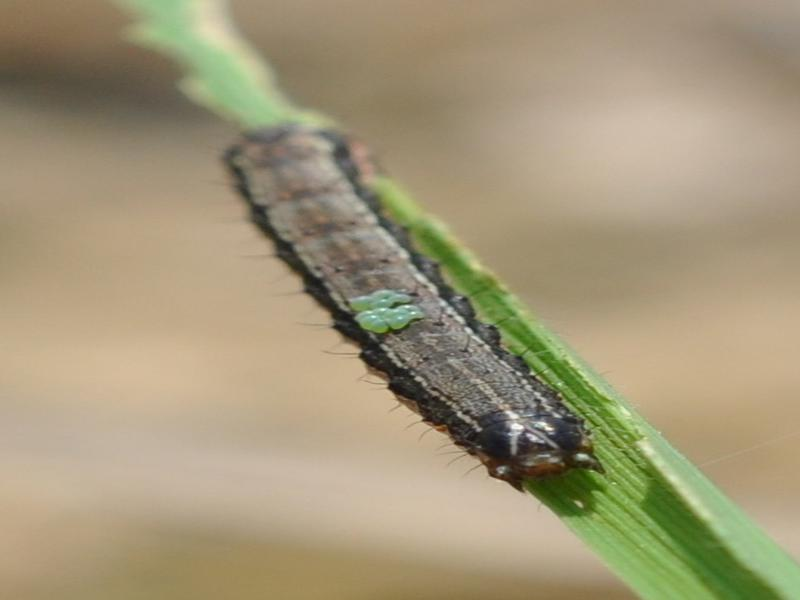Rice_case_worm: (176, 111, 629, 501)
